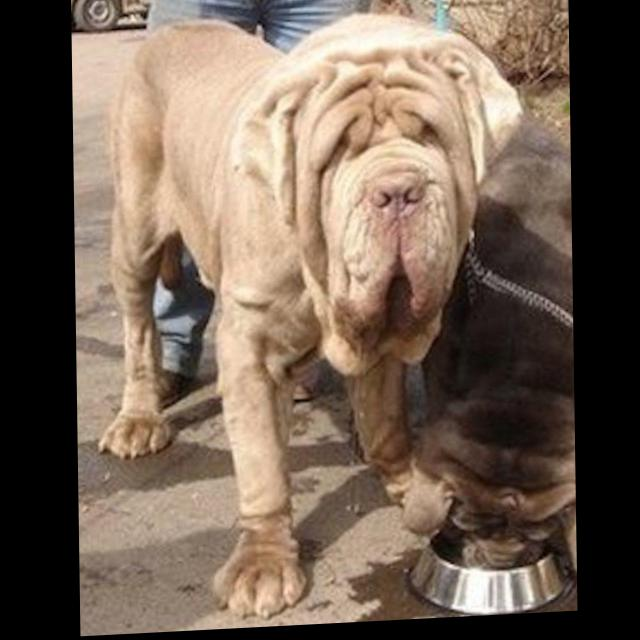mastino_napoletano: (92, 8, 530, 631), (416, 120, 577, 596)
person: (149, 1, 366, 407)
